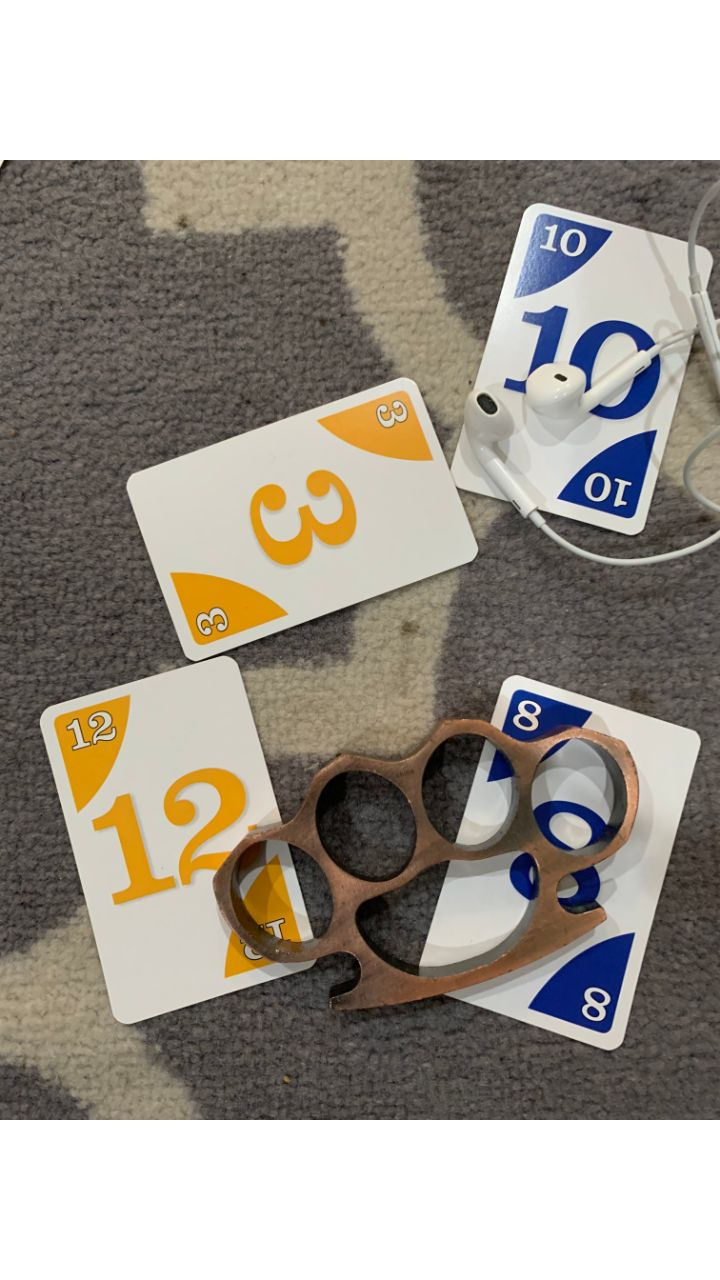eight: (418, 671, 699, 1056)
ten: (449, 199, 709, 539)
twelve: (34, 654, 324, 1027)
